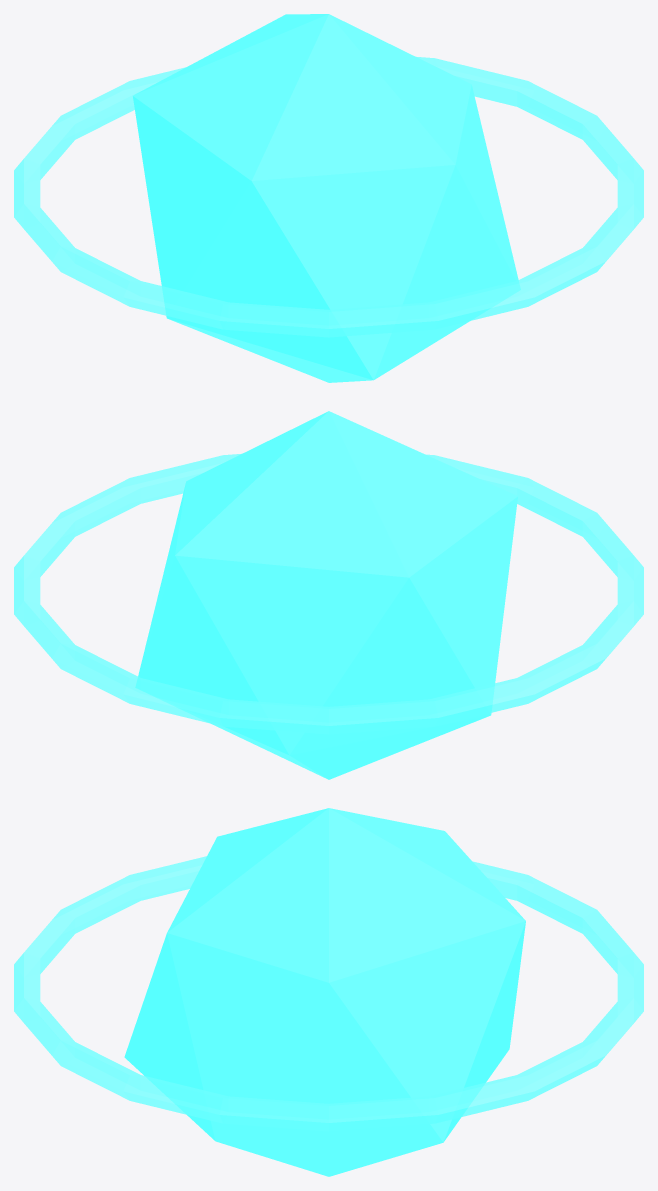
File: kanban_core.glb
3 views of the same model, one above another, from view 1: azimuth 30°, elevation 25°; view 2: azimuth 150°, elevation 25°; view 3: azimuth 270°, elevation 25° (orthographic).
Visible parts, largest first — view 1: kanban_core; view 2: kanban_core; view 3: kanban_core.
Boxes of the visible parts, bbox=[...] form: kanban_core: bbox=[14, 14, 643, 382]; kanban_core: bbox=[14, 411, 643, 779]; kanban_core: bbox=[14, 808, 643, 1176].
Size of the model in its own units: 1.51 by 0.9609 by 1.49.
